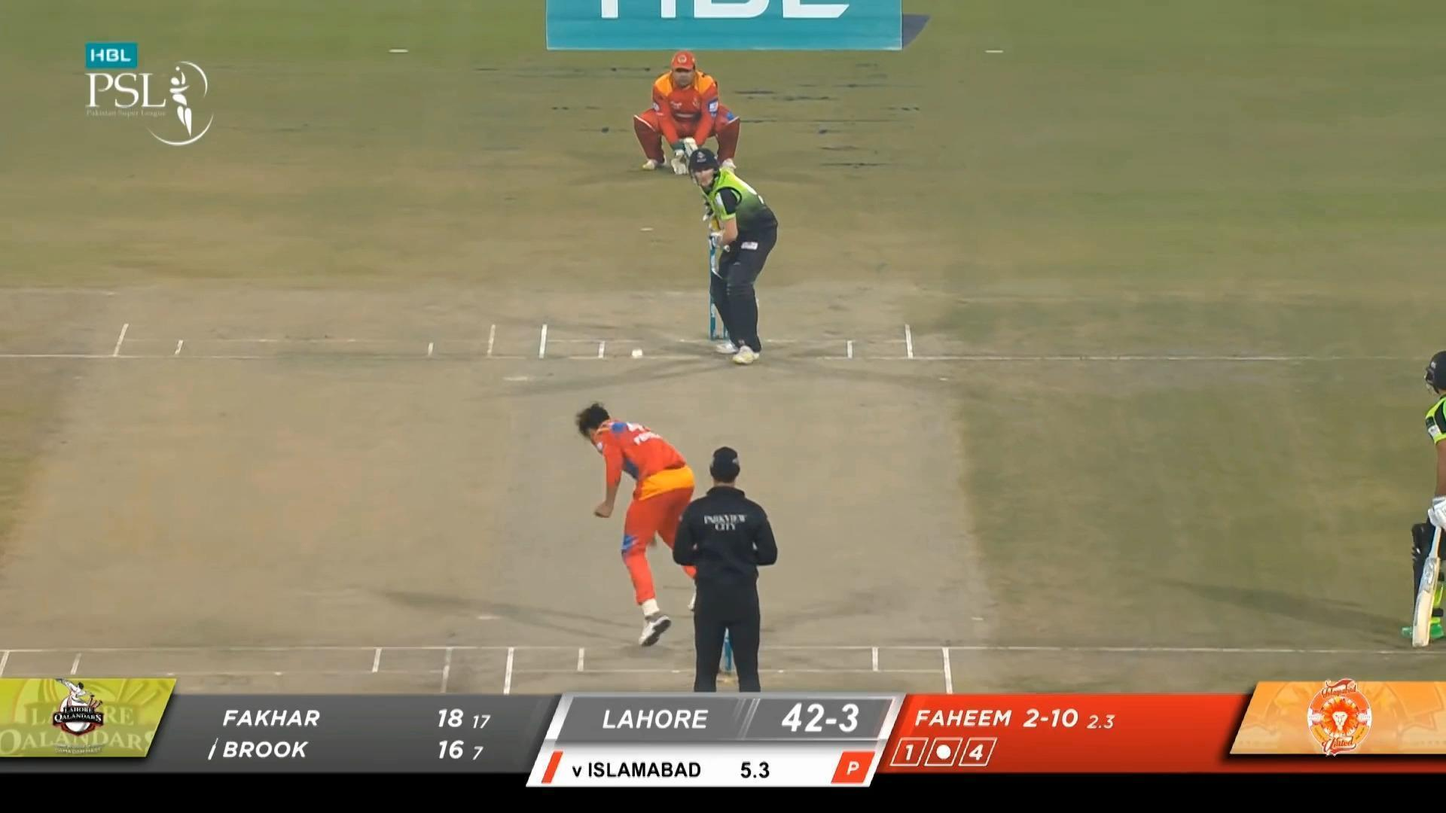BM 1: (683, 137, 778, 365)
BO: (576, 401, 699, 646)
